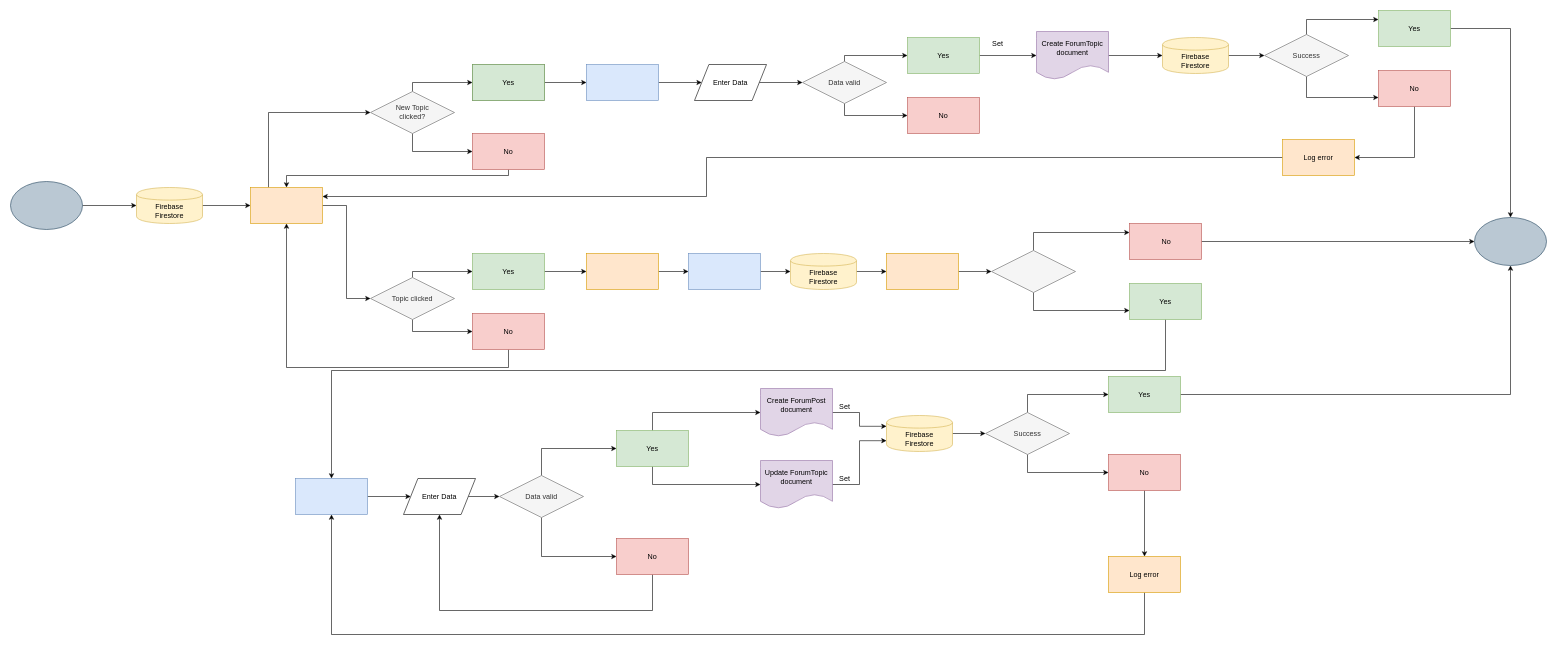
This 1557x650 diagram has some shape labels left out. The centre of each missing label's shape, as x and y in pixels:
Display Forum Topics: the point at 286,205
Display topic posts: the point at 922,271
Finish: the point at 1510,241
ForumPostReply Activity: the point at 331,496
ForumPostTopic Activity: the point at 622,82
ForumViewTopic Activity: the point at 724,271
Pass topic data: the point at 622,271
Reply clicked?: the point at 1033,271
Start: the point at 46,205
